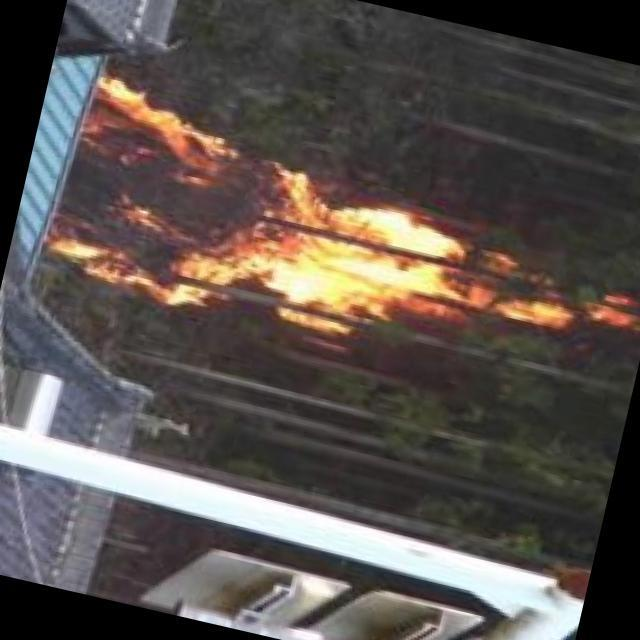Fire: (44, 77, 594, 394)
